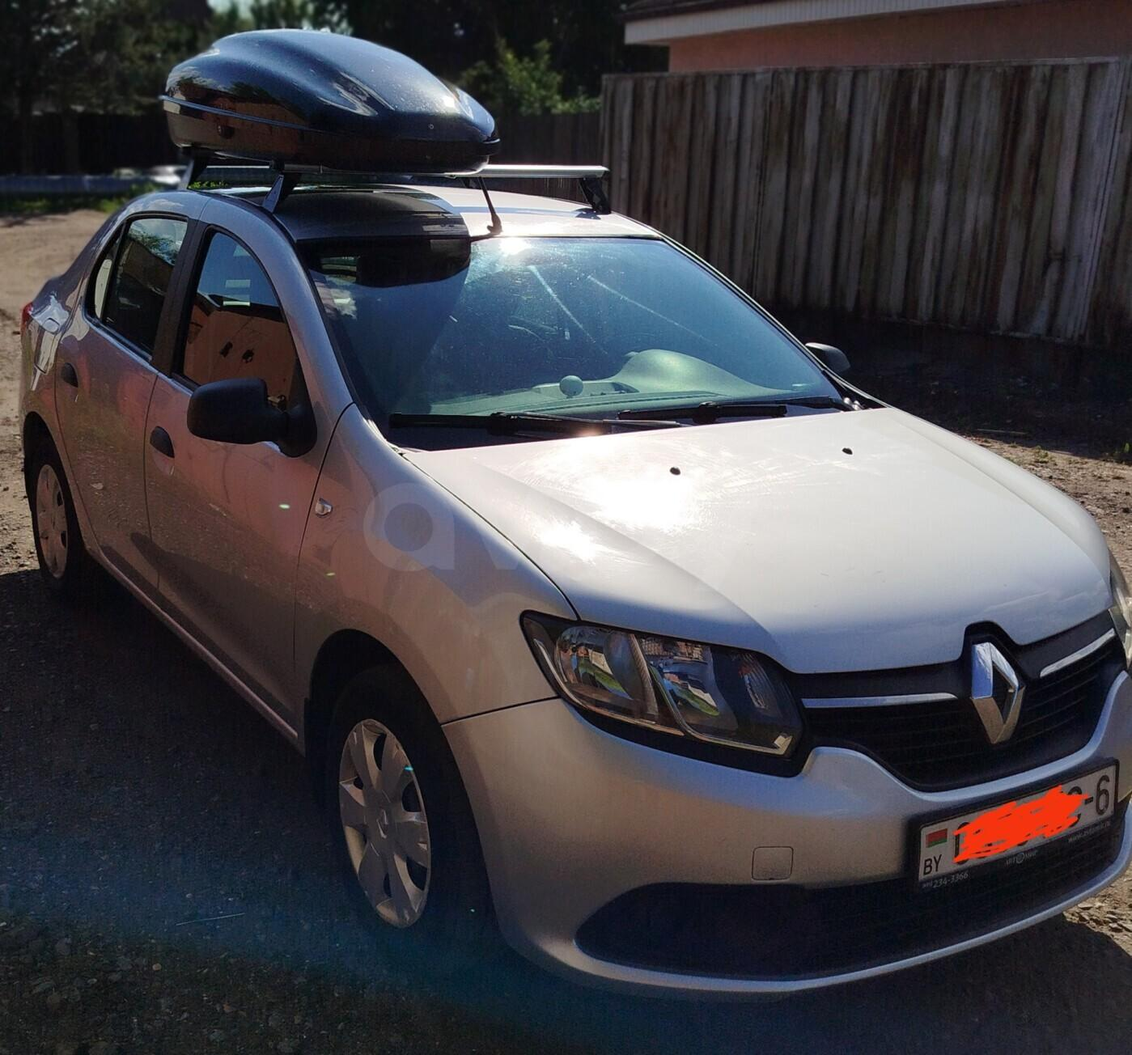Logan_2013-2018: (13, 167, 1132, 1001)
